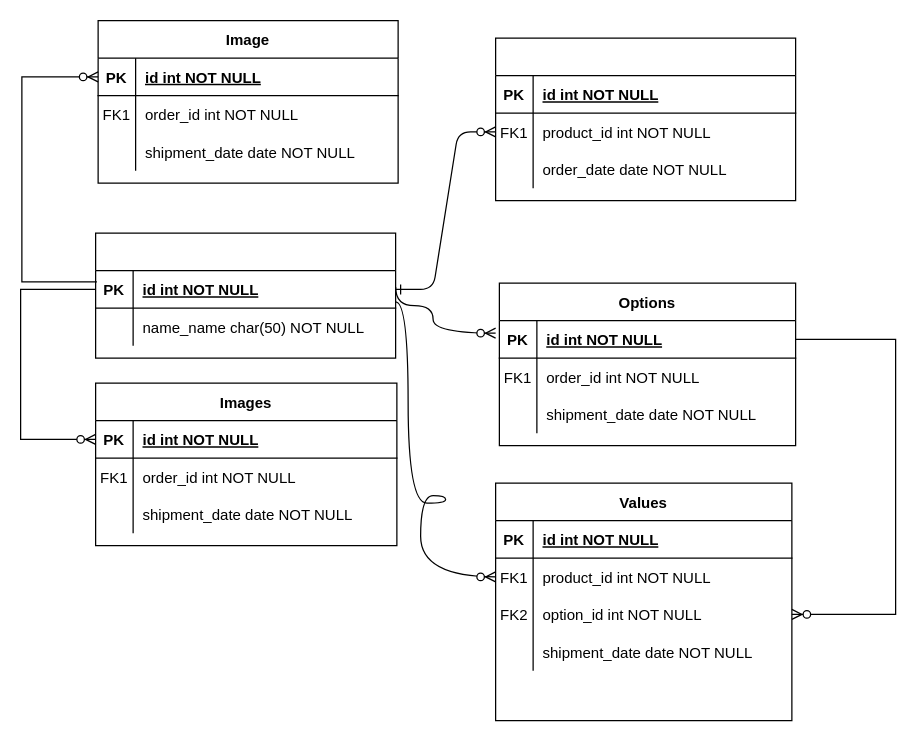
This 916x741 diagram has some shape labels left out. Here are the shapes that lost their labels. From the top down, the box of each, then its label:
(494, 37, 796, 201): Varients
(94, 232, 396, 358): Products
